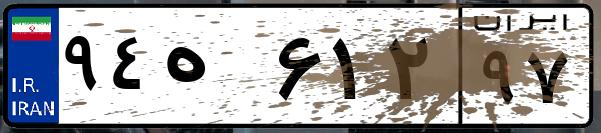1: (330, 28, 385, 110)
2: (385, 28, 445, 110)
4: (110, 28, 158, 98)
6: (270, 28, 330, 110)
7: (525, 38, 570, 115)
9: (57, 26, 110, 100), (475, 38, 525, 113)
ه: (158, 20, 270, 120)
